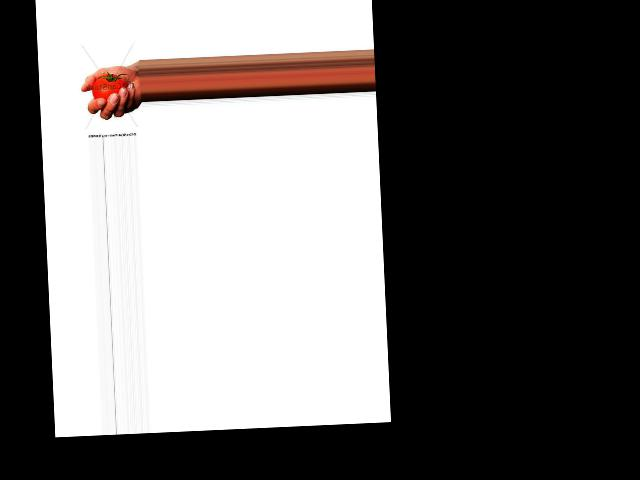tomato: (91, 73, 128, 100)
